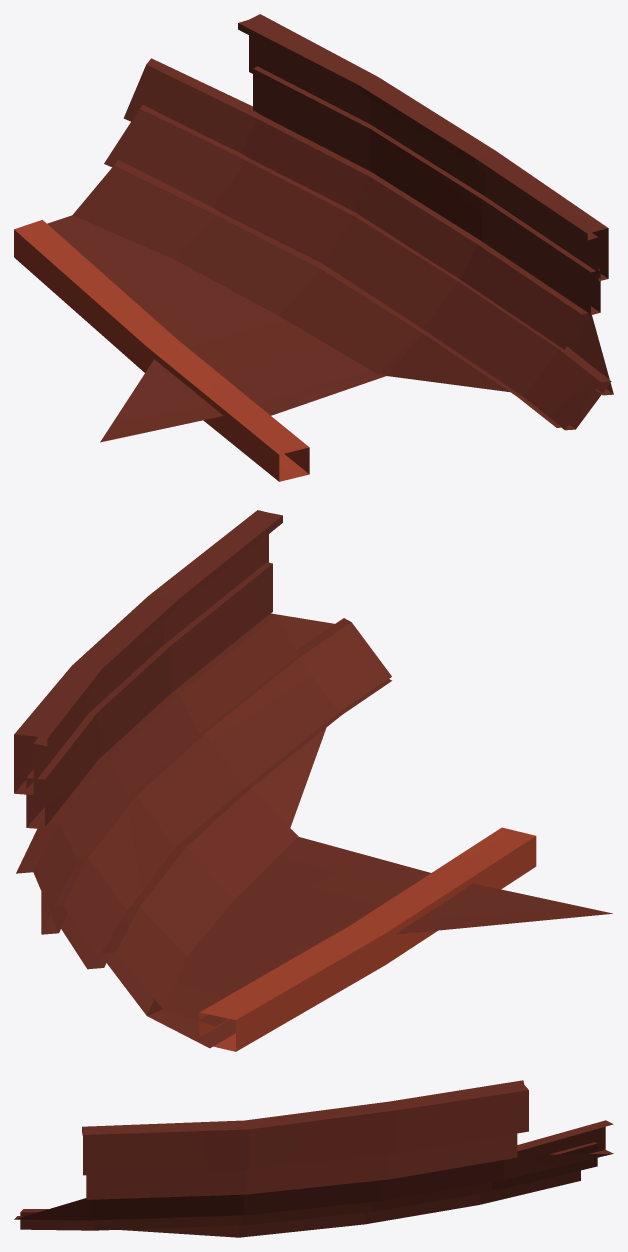
Rendered from BoatPart3.fbx.
3 views of the same model, one above another, from view 1: azimuth 30°, elevation 25°; view 2: azimuth 150°, elevation 25°; view 3: azimuth 270°, elevation 25° (orthographic). The views are drawn at different scales.
Visible parts, largest first — view 1: Boat.002; view 2: Boat.002; view 3: Boat.002.
Boxes of the visible parts, left/top/right/bottom form: Boat.002: left=14, top=14, right=613, bottom=481; Boat.002: left=14, top=510, right=612, bottom=1051; Boat.002: left=14, top=1080, right=613, bottom=1237.
Size of the model in its own units: 108 by 59.81 by 172.
